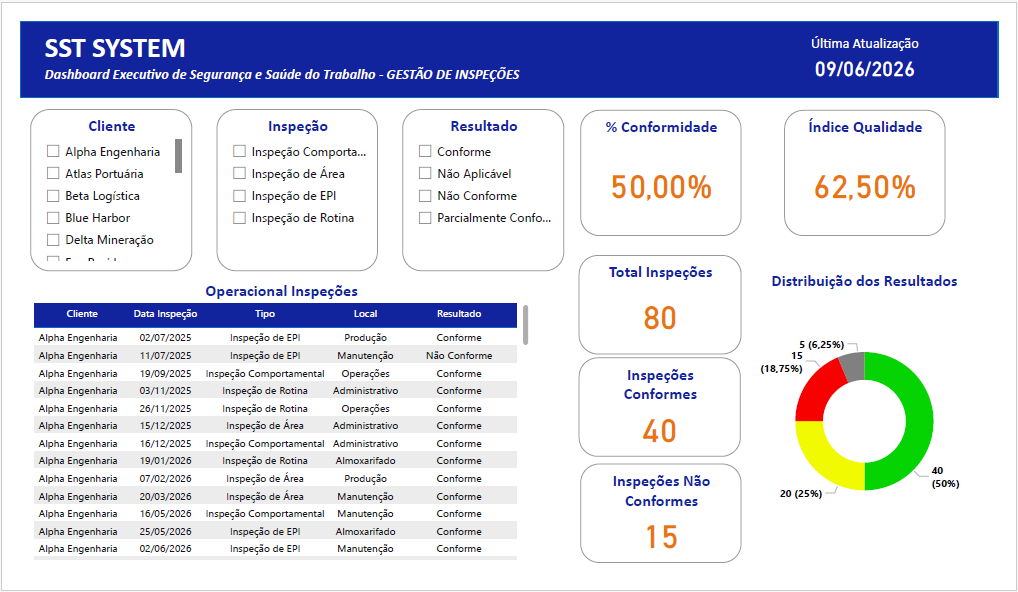

What the dashboard file says about the page in this screenshot:
{"tool":"powerbi","page":{"name":"Gestão de Inséções","canvas":[1280,720],"ordinal":3},"visuals":[{"type":"shape","box":[0,0,1280,100],"z":0},{"type":"card","title":"Última Atualização","fields":{"Values":["Medidas.Última Atualização"]},"box":[944.3,17.1,322.9,65.7],"z":1000},{"type":"textbox","box":[27.1,5.7,852.9,87.1],"z":2000},{"type":"slicer","title":"Cliente","fields":{"Values":["public vw_inspecoes.nome_fantasia"]},"box":[13.3,115,211.7,211.7],"z":3000},{"type":"slicer","title":"Inspeção","fields":{"Values":["public vw_inspecoes.tipo_inspecao"]},"box":[256.7,115,211.7,211.7],"z":4000},{"type":"slicer","title":"Resultado","fields":{"Values":["public vw_inspecoes.resultado"]},"box":[500,115,211.7,211.7],"z":5000},{"type":"card","title":"Total Inspeções","fields":{"Values":["Medidas.Total Inspeções"]},"box":[731.4,305.7,212.9,130],"z":6000},{"type":"card","title":"Inspeções Conformes","fields":{"Values":["Medidas.Inspeções Conformes"]},"box":[731.4,440,211.4,130],"z":7000},{"type":"card","title":"Inspeções Não Conformes","fields":{"Values":["Medidas.Inspeções Não Conformes"]},"box":[732.9,578.6,211.4,130],"z":8000},{"type":"card","title":"% Conformidade","fields":{"Values":["Medidas.% Conformidade Inspeções"]},"box":[732.9,115.7,211.4,165.7],"z":9000},{"type":"card","title":"Índice Qualidade","fields":{"Values":["Medidas.Índice Qualidade Inspeções"]},"box":[1000,115.7,211.4,165.7],"z":10000},{"type":"donutChart","title":"Distribuição dos Resultados","fields":{"Y":["Medidas.Qtd Inspeções"],"Category":["public vw_inspecoes.resultado"]},"box":[951.4,327.1,307.1,367.1],"z":11000},{"type":"tableEx","title":"Operacional Inspeções","fields":{"Values":["public clientes.nome_fantasia","public vw_inspecoes.data_inspecao","public vw_inspecoes.tipo_inspecao","public vw_inspecoes.local_inspecionado","public vw_inspecoes.resultado"]},"box":[12.9,338.6,658.6,370],"z":12000}]}

Visuals, with their boxes on the page's 1280x720 design canvas (x1, y1, x2, y2). These are canvas units, not pixel positions in the 1018x592 screenshot, which may show the page scaled, cropped or inside an application window:
shape: 0, 0, 1280, 100
"Última Atualização" card: 944, 17, 1267, 83
textbox: 27, 6, 880, 93
"Cliente" slicer: 13, 115, 225, 327
"Inspeção" slicer: 257, 115, 468, 327
"Resultado" slicer: 500, 115, 712, 327
"Total Inspeções" card: 731, 306, 944, 436
"Inspeções Conformes" card: 731, 440, 943, 570
"Inspeções Não Conformes" card: 733, 579, 944, 709
"% Conformidade" card: 733, 116, 944, 281
"Índice Qualidade" card: 1000, 116, 1211, 281
"Distribuição dos Resultados" donutChart: 951, 327, 1258, 694
"Operacional Inspeções" tableEx: 13, 339, 672, 709
